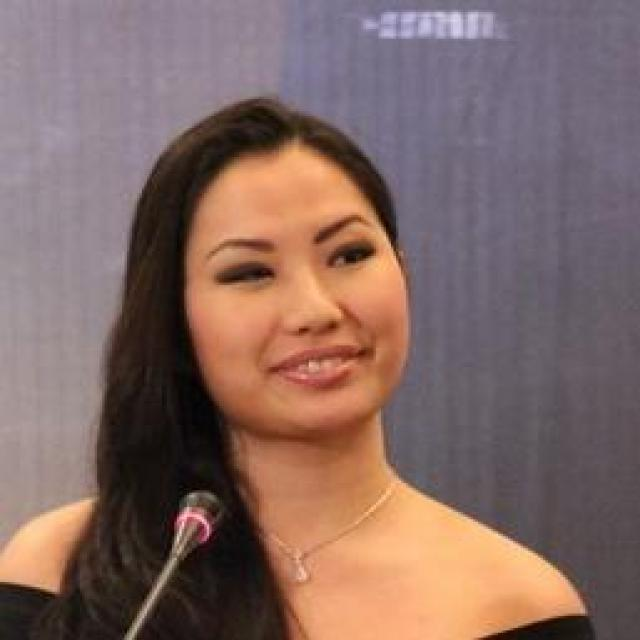0_rostro_limpio: (166, 114, 414, 442)
